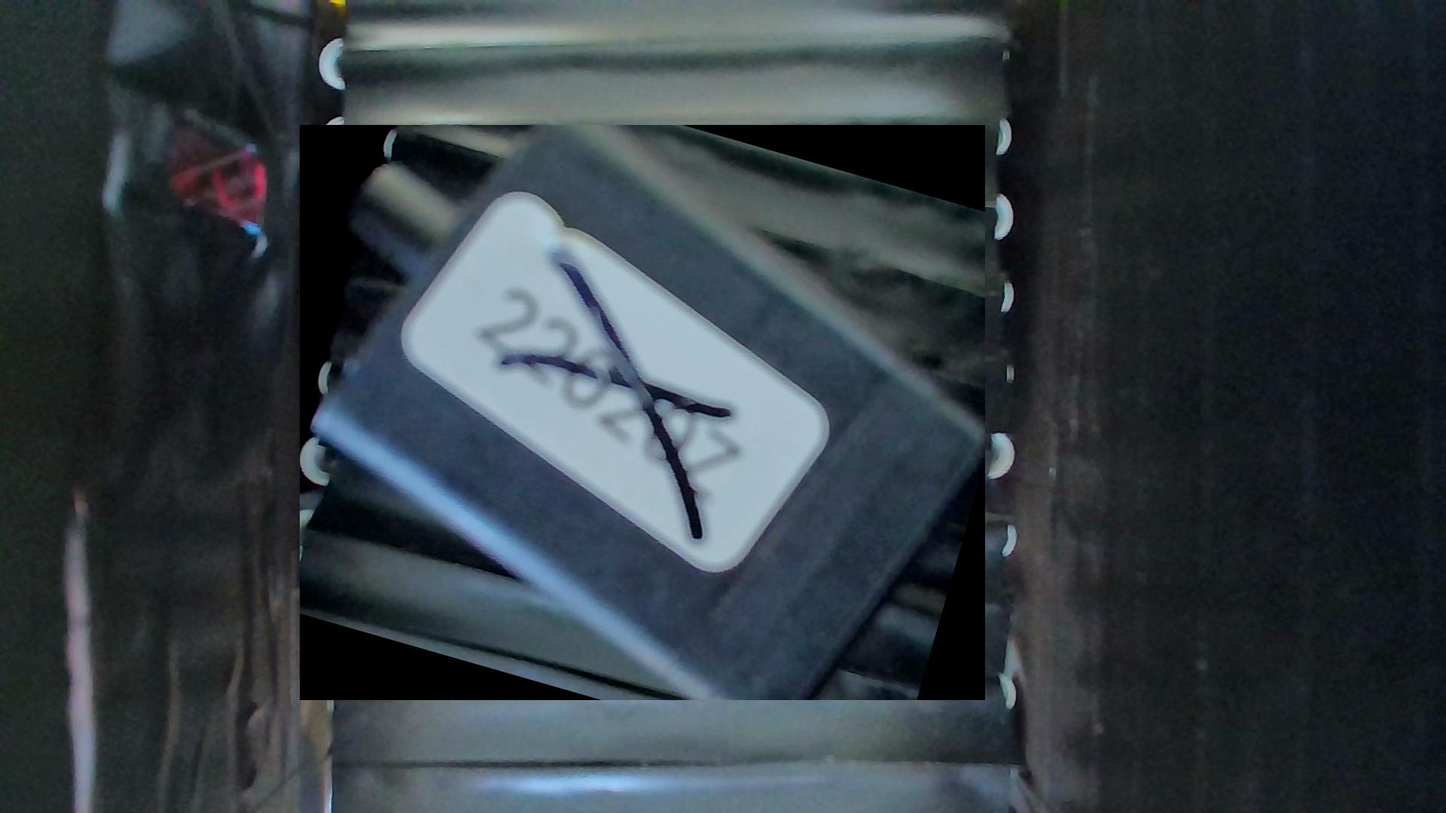motor: (300, 125, 985, 700)
